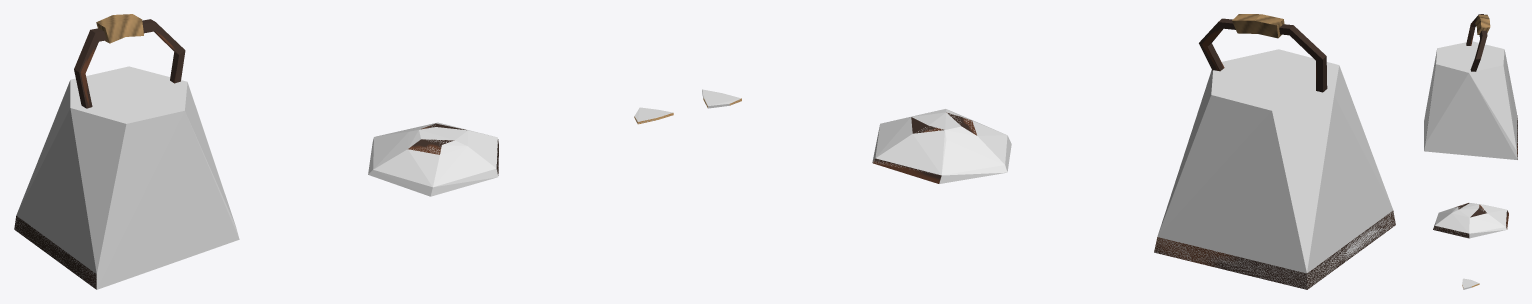
Rendered from SM_DB04_LanternParts.fbx.
3 renders of one model, left to right at view 1: azimuth 30°, elevation 25°; view 2: azimuth 150°, elevation 25°; view 3: azimuth 270°, elevation 25°, orthographic. The views are drawn at different scales.
Parts seen in each view (by area): view 1: DB04_Lantern_Cage_COL, DB04_Lantern_Lid_COL, DB04_Lantern_Cage, DB04_Lantern_Lid; view 2: DB04_Lantern_Cage_COL, DB04_Lantern_Lid_COL, DB04_Lantern_Cage, DB04_Lantern_Lid, DB04_Lantern_Glass_COL; view 3: DB04_Lantern_Cage_COL, DB04_Lantern_Lid_COL, DB04_Lantern_Cage, DB04_Lantern_Lid, DB04_Lantern_Glass_COL.
Boxes of the visible parts, x1,y1,x2,y2 form: DB04_Lantern_Cage_COL: [15, 66, 239, 289]; DB04_Lantern_Lid_COL: [368, 122, 498, 196]; DB04_Lantern_Cage: [14, 14, 185, 289]; DB04_Lantern_Lid: [408, 123, 498, 175]; DB04_Lantern_Cage_COL: [1155, 49, 1394, 288]; DB04_Lantern_Lid_COL: [872, 109, 1011, 183]; DB04_Lantern_Cage: [1154, 14, 1395, 289]; DB04_Lantern_Lid: [873, 112, 976, 183]; DB04_Lantern_Glass_COL: [702, 89, 741, 108]; DB04_Lantern_Cage_COL: [1424, 41, 1517, 159]; DB04_Lantern_Lid_COL: [1433, 202, 1506, 238]; DB04_Lantern_Cage: [1466, 14, 1517, 159]; DB04_Lantern_Lid: [1433, 203, 1508, 238]; DB04_Lantern_Glass_COL: [1462, 278, 1479, 289].
Bounding box in the file's own units: 1.24 × 0.4161 × 0.2899.
